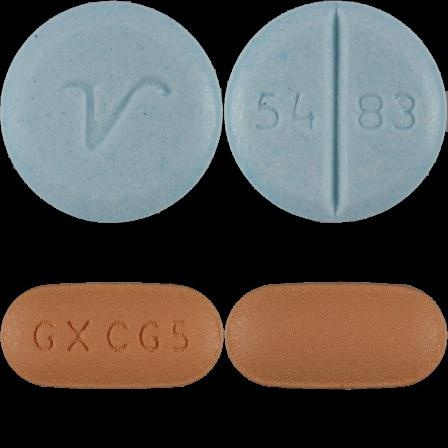53808-0891: (0, 0, 224, 224)
